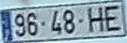4: (50, 9, 63, 34)
6: (25, 11, 38, 37)
8: (61, 8, 75, 34)
9: (13, 12, 26, 37)
E: (104, 5, 121, 33)
H: (86, 6, 105, 33)
